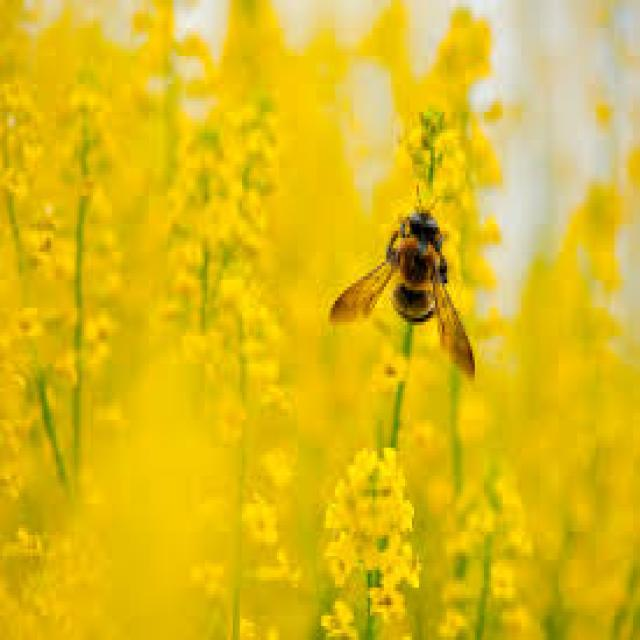Bees: (319, 174, 490, 398)
